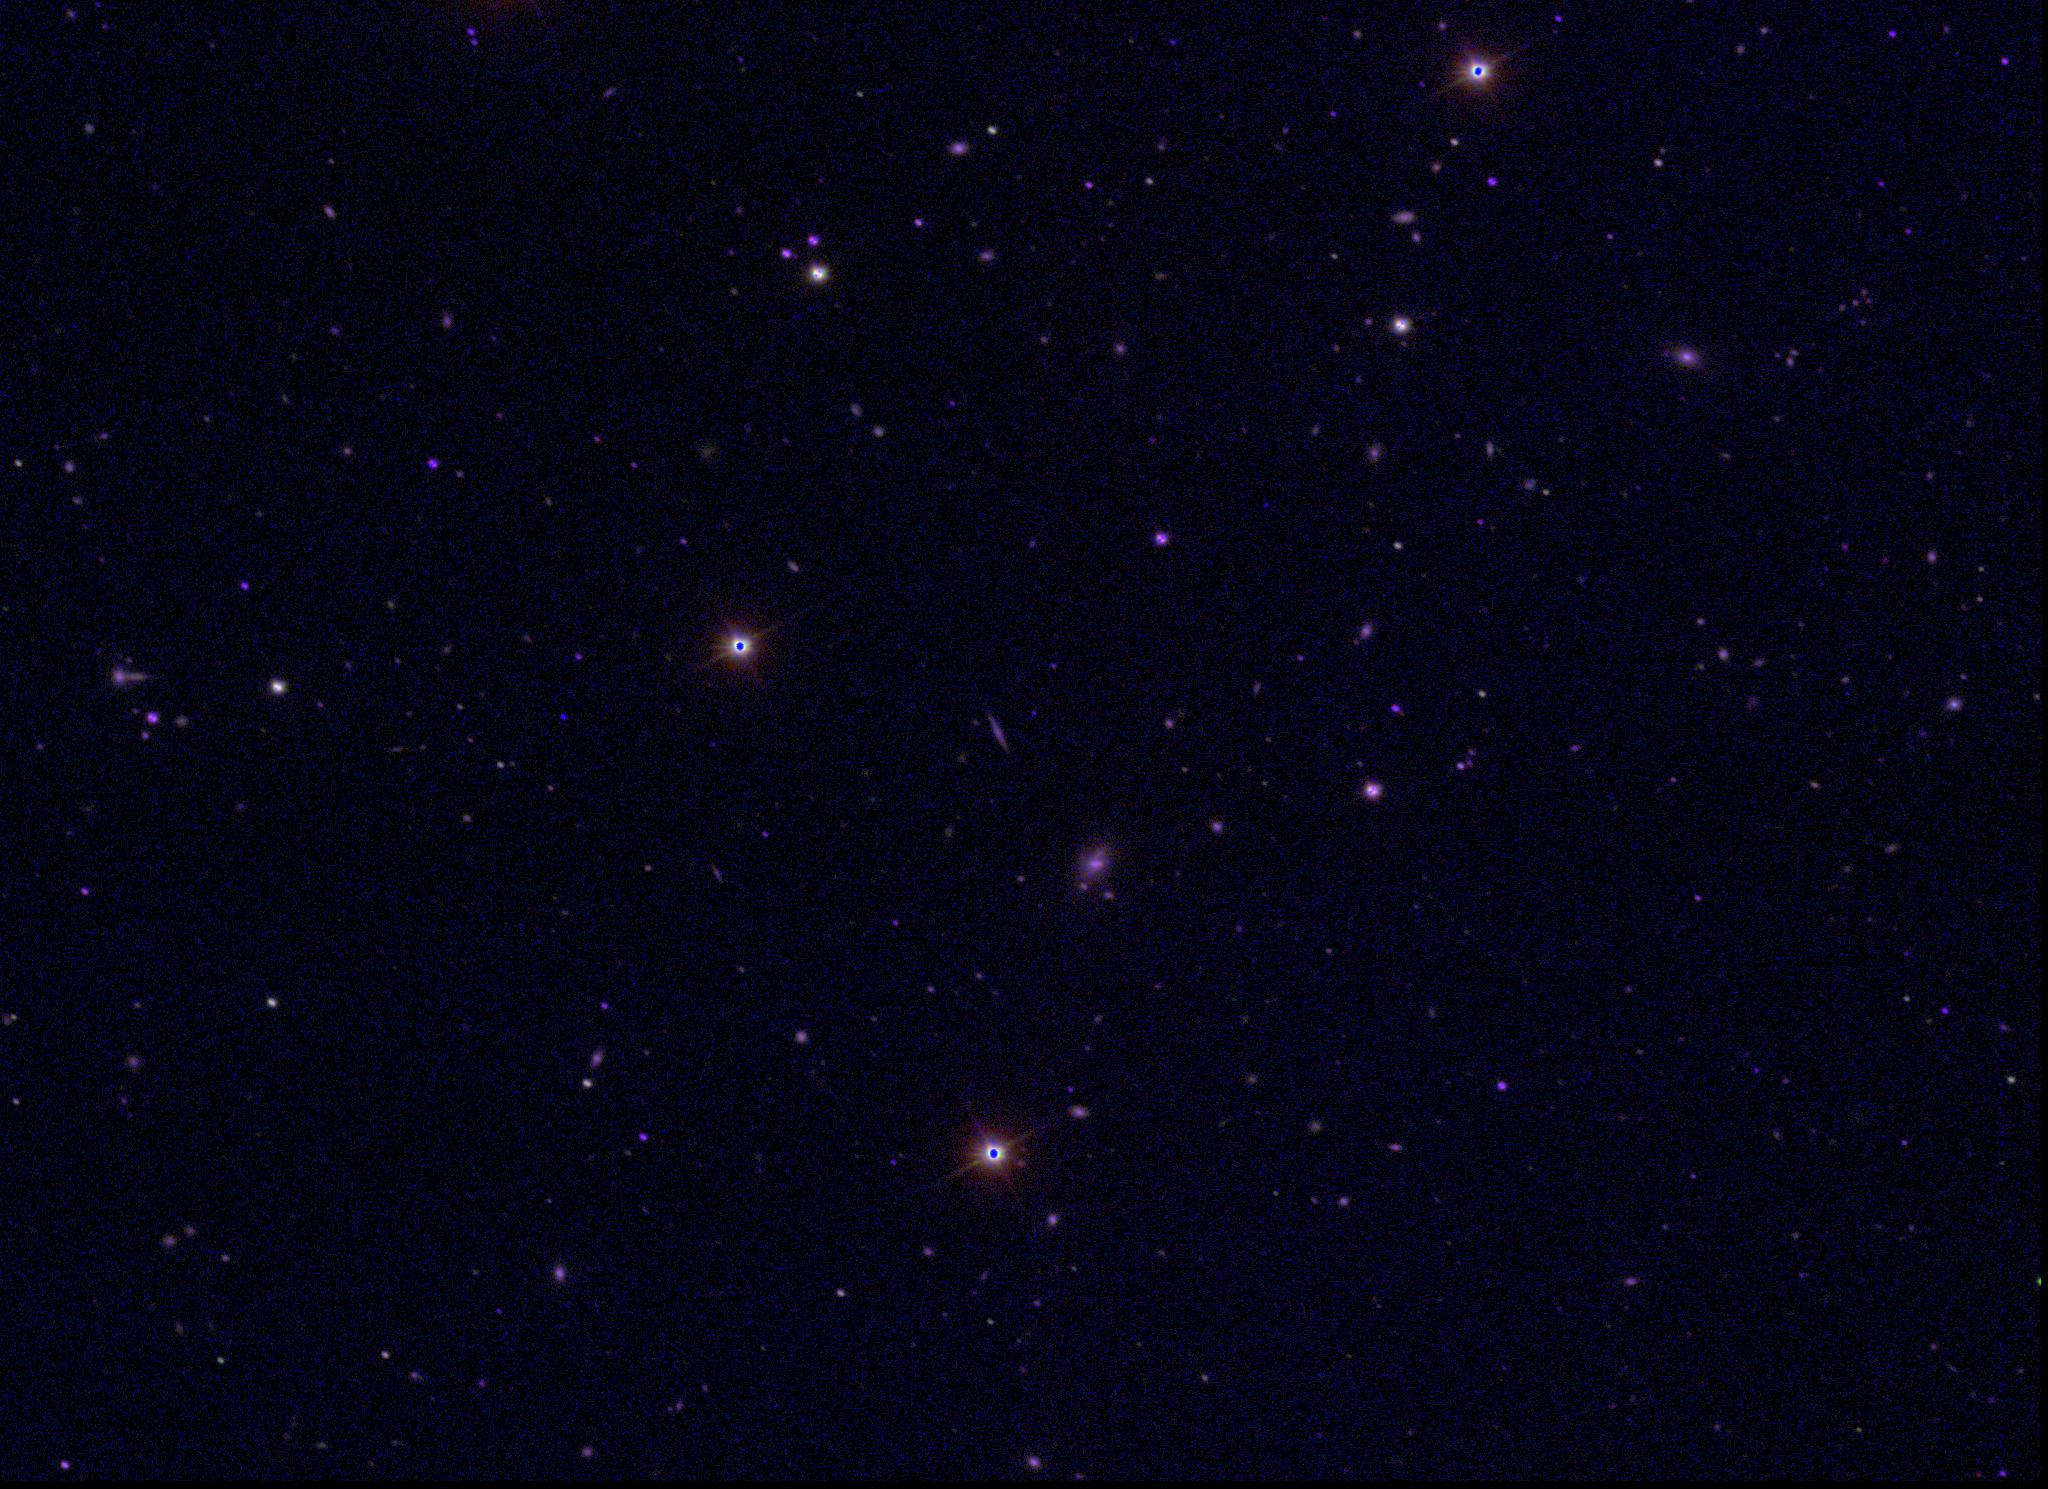L: (557, 710, 571, 724)
